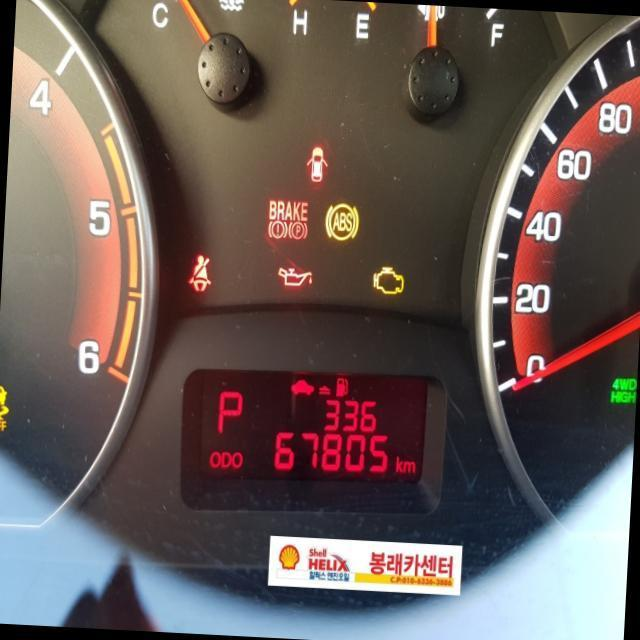Doors: (304, 144, 328, 183)
